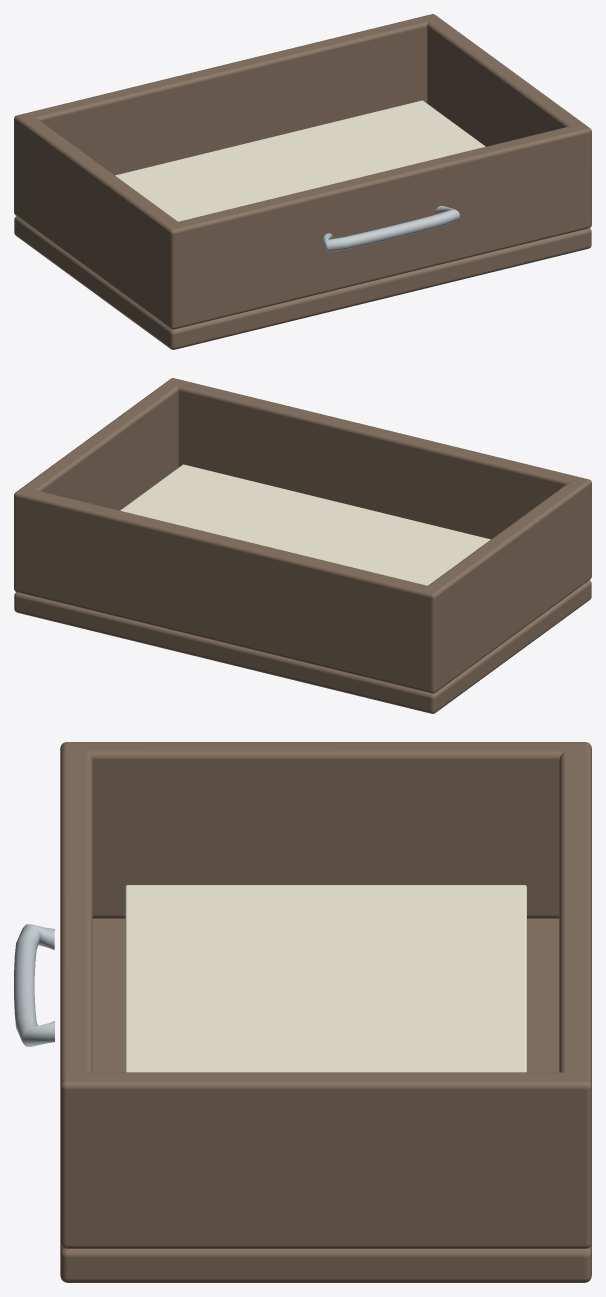
The model's file is abandoned-weather-station-and-storm-shelter-chart-stor-a7ae2f7a__31014.glb.
3 renders of one model, top to bottom at view 1: azimuth 30°, elevation 25°; view 2: azimuth 150°, elevation 25°; view 3: azimuth 270°, elevation 25°, orthographic. The views are drawn at different scales.
Parts seen in each view (by area): view 1: chart-storage-drawer; view 2: chart-storage-drawer; view 3: chart-storage-drawer.
Boxes of the visible parts, x1=… form: chart-storage-drawer: x1=14, y1=14, x2=591, y2=349; chart-storage-drawer: x1=14, y1=378, x2=591, y2=713; chart-storage-drawer: x1=14, y1=742, x2=591, y2=1282.
Bounding box in the file's own units: 0.75 × 0.205 × 0.5326.
